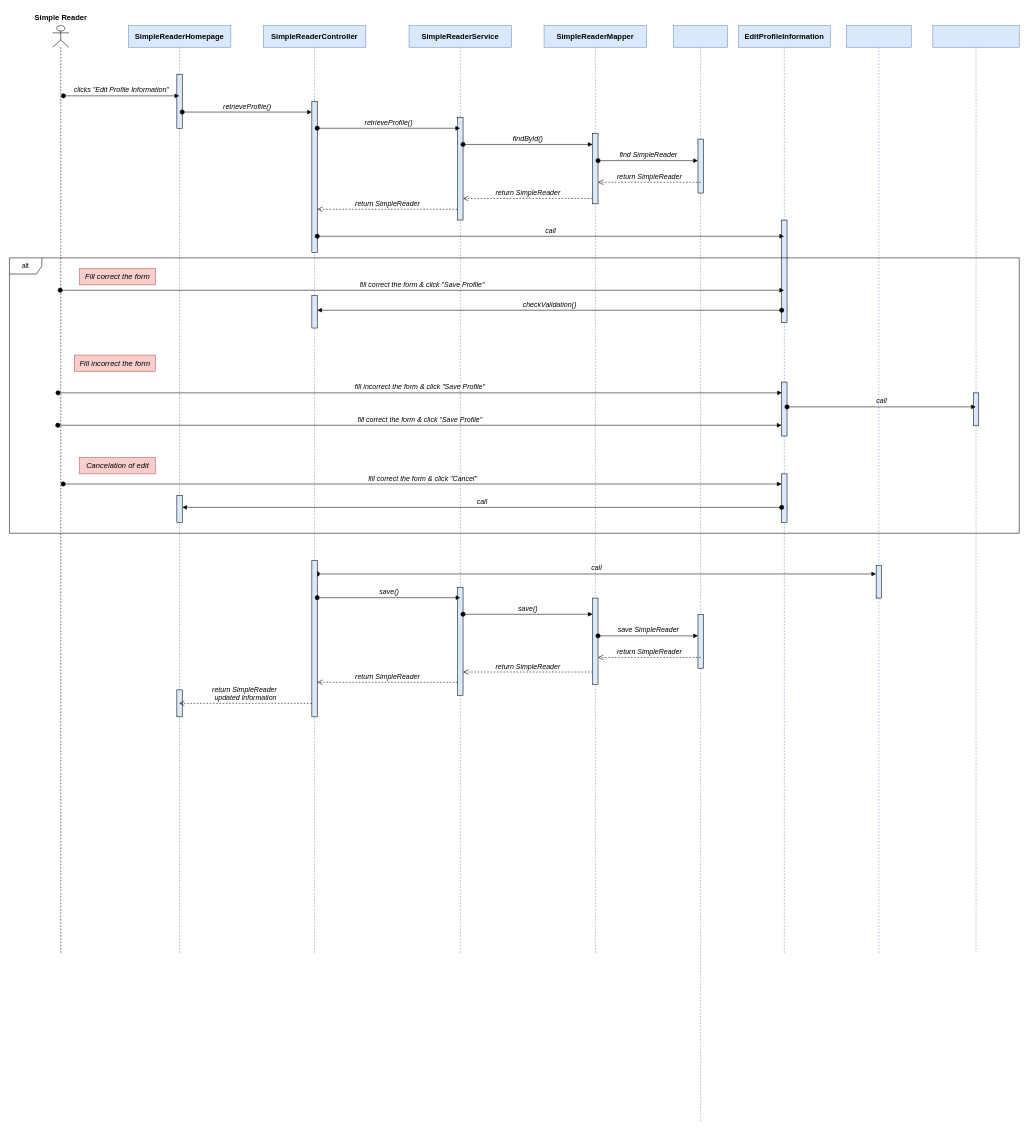
Image size: 1029x1132. Some labels were removed from this diagram. Here are the shapes that lost their labels. From the top down, the box of each, then its label:
(846, 25, 911, 954): profileChanged
(932, 25, 1019, 954): WrongProfileChanges
(673, 25, 728, 1123): DBManager
